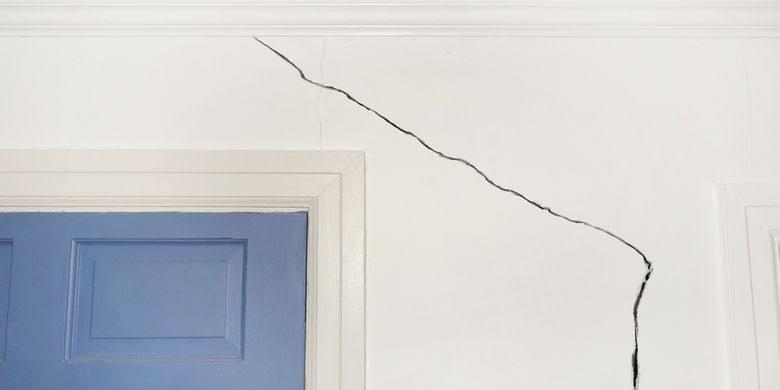Crack: (379, 104, 663, 389), (233, 31, 404, 144)
